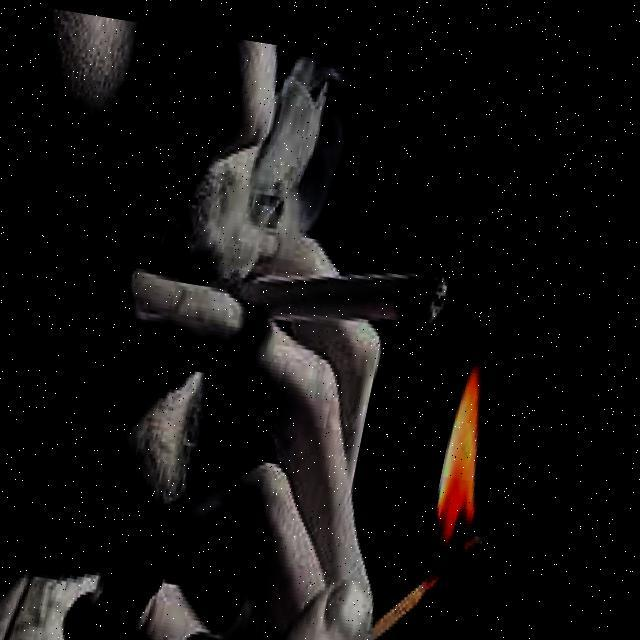Fire: (431, 327, 526, 531)
